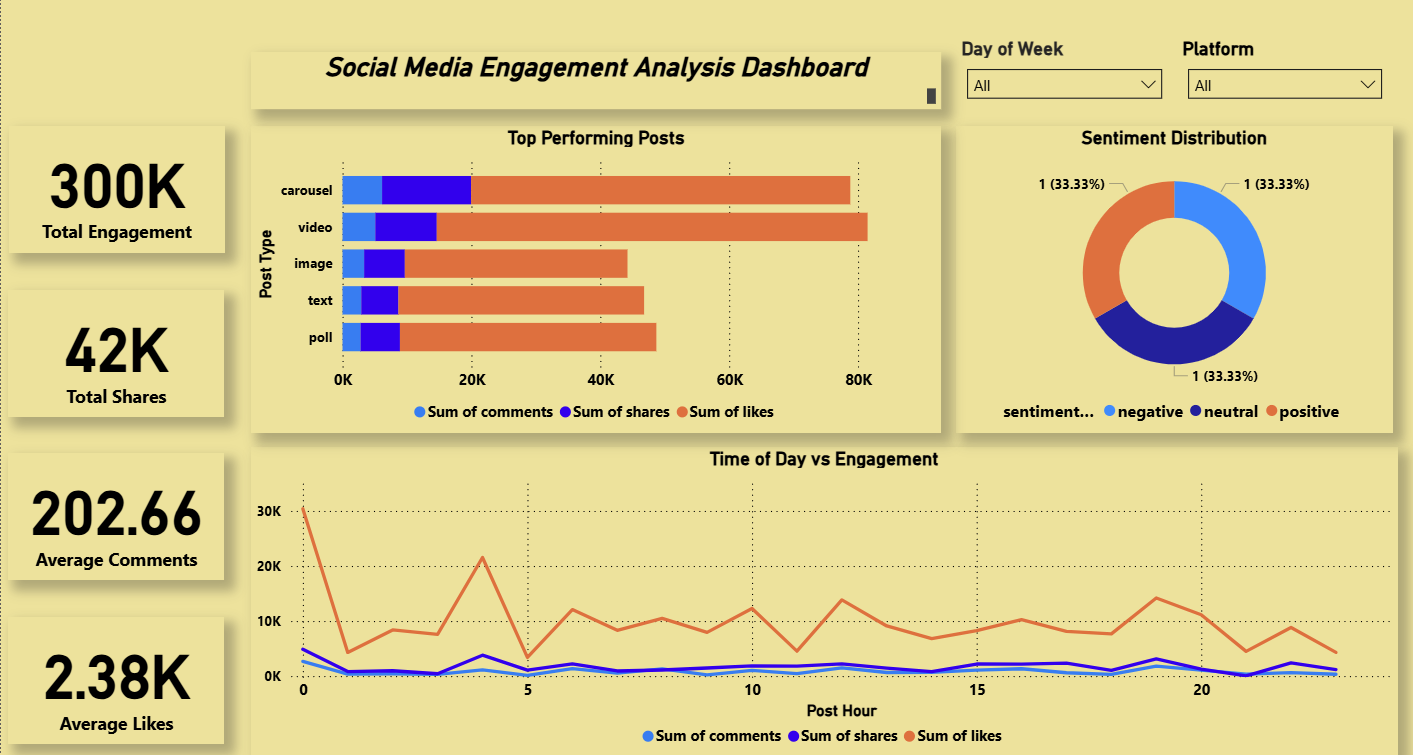

The dashboard page shown, as its layout file describes it:
{"tool":"powerbi","page":{"name":"Page 1","canvas":[1280,720],"ordinal":0},"visuals":[{"type":"card","fields":{"Values":["social_media_engagement1.Average Comments"]},"box":[6.8,442.7,196.4,115.1],"z":0},{"type":"card","fields":{"Values":["social_media_engagement1.Average Likes"]},"box":[6.8,590.9,196.4,115.1],"z":1000},{"type":"card","fields":{"Values":["social_media_engagement1.Total Shares"]},"box":[6.8,294.5,196.4,115.1],"z":2000},{"type":"lineChart","title":"Time of Day vs Engagement","fields":{"Category":["social_media_engagement1.Post_Hour"],"Y":["Sum(social_media_engagement1.comments)","Sum(social_media_engagement1.shares)","Sum(social_media_engagement1.likes)"]},"box":[226.9,436.8,1039.6,281.1],"z":3000},{"type":"donutChart","title":"Sentiment Distribution","fields":{"Y":["Count(social_media_engagement1.sentiment_score)"],"Category":["social_media_engagement1.sentiment_score"]},"box":[866.4,146.4,395.9,277.8],"z":4000},{"type":"barChart","title":"Top Performing Posts","fields":{"Category":["social_media_engagement1.post_type"],"Y":["Sum(social_media_engagement1.comments)","Sum(social_media_engagement1.shares)","Sum(social_media_engagement1.likes)"]},"box":[227.1,146.4,625.9,277.8],"z":5000},{"type":"slicer","title":"Platform","fields":{"Values":["social_media_engagement1.platform"]},"box":[1066.6,65.7,195.7,65.7],"z":6000},{"type":"slicer","title":"Day of Week","fields":{"Values":["social_media_engagement1.Day_of_Week"]},"box":[866.4,65.7,197.2,65.7],"z":7000},{"type":"card","fields":{"Values":["social_media_engagement1.Total Engagement"]},"box":[7.5,146.4,195.7,115],"z":8000},{"type":"textbox","title":"Social Media Engagement Analysis Dashboard","box":[227.1,79.2,625.9,52.3],"z":9000}]}

Visuals, with their boxes on the page's 1280x720 design canvas (x1, y1, x2, y2). These are canvas units, not pixel positions in the 1413x755 screenshot, which may show the page scaled, cropped or inside an application window:
card - social_media_engagement1.Average Comments: (x1=7, y1=443, x2=203, y2=558)
card - social_media_engagement1.Average Likes: (x1=7, y1=591, x2=203, y2=706)
card - social_media_engagement1.Total Shares: (x1=7, y1=294, x2=203, y2=410)
"Time of Day vs Engagement" lineChart: (x1=227, y1=437, x2=1266, y2=718)
"Sentiment Distribution" donutChart: (x1=866, y1=146, x2=1262, y2=424)
"Top Performing Posts" barChart: (x1=227, y1=146, x2=853, y2=424)
"Platform" slicer: (x1=1067, y1=66, x2=1262, y2=131)
"Day of Week" slicer: (x1=866, y1=66, x2=1064, y2=131)
card - social_media_engagement1.Total Engagement: (x1=8, y1=146, x2=203, y2=261)
"Social Media Engagement Analysis Dashboard" textbox: (x1=227, y1=79, x2=853, y2=132)
